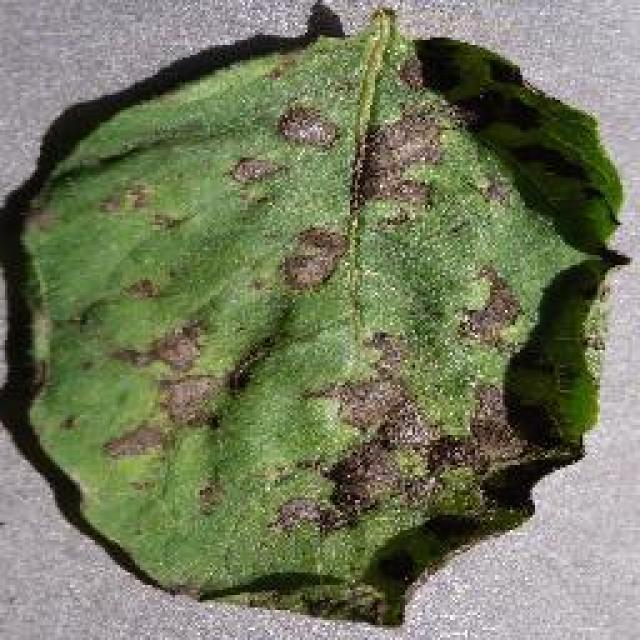Potato___Early_blight: (16, 5, 635, 631)
